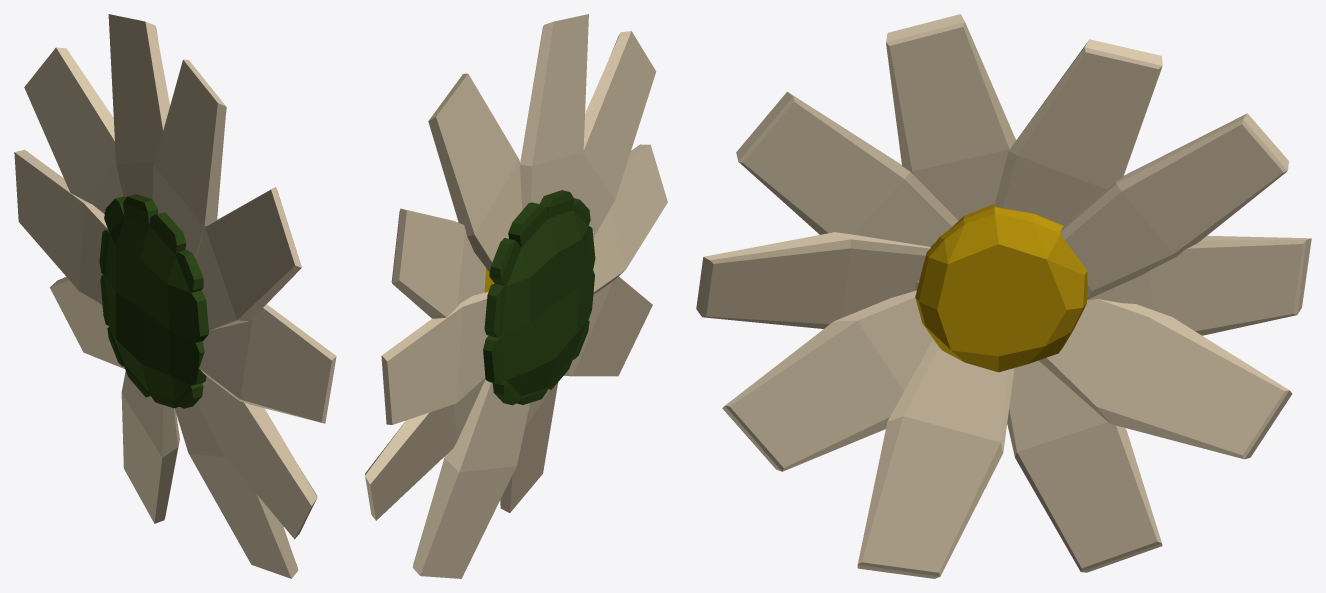
File: Daisy_Crown.fbx
3 renders of one model, left to right at view 1: azimuth 30°, elevation 25°; view 2: azimuth 150°, elevation 25°; view 3: azimuth 270°, elevation 25°, orthographic. The views are drawn at different scales.
Visible parts, largest first — view 1: Back, Pedals.002, Pedals.001, Pedals, Pedals.006, Pedals.009, Pedals.003, Pedals.007, Pedals.004, Pedals.008, Pedals.005; view 2: Back, Pedals.008, Pedals.009, Pedals, Pedals.007, Pedals.001, Pedals.006, Pedals.005, Pedals.002, Pedals.003, Pedals.004; view 3: Pedals.004, Pedals.005, Front, Pedals.003, Pedals.006, Pedals.008, Pedals.009, Pedals, Pedals.001, Pedals.002, Pedals.007.
Boxes of the visible parts, x1,y1,x2,y2 form: Back: [99, 194, 208, 408]; Pedals.002: [199, 304, 336, 423]; Pedals.001: [196, 187, 301, 330]; Pedals: [152, 59, 226, 258]; Pedals.006: [24, 47, 123, 213]; Pedals.009: [108, 14, 169, 199]; Pedals.003: [197, 376, 317, 539]; Pedals.007: [14, 149, 107, 304]; Pedals.004: [174, 402, 298, 578]; Pedals.008: [121, 371, 179, 523]; Pedals.005: [50, 276, 124, 368]; Back: [483, 190, 595, 405]; Pedals.008: [412, 379, 529, 578]; Pedals.009: [428, 73, 522, 272]; Pedals: [520, 14, 588, 209]; Pedals.007: [381, 291, 488, 424]; Pedals.001: [573, 31, 656, 238]; Pedals.006: [391, 208, 485, 318]; Pedals.005: [365, 378, 485, 520]; Pedals.002: [593, 144, 667, 294]; Pedals.003: [564, 276, 652, 376]; Pedals.004: [500, 382, 558, 512]; Pedals.004: [857, 339, 1014, 578]; Pedals.005: [1039, 299, 1292, 459]; Front: [915, 204, 1087, 372]; Pedals.003: [722, 290, 933, 471]; Pedals.006: [1060, 113, 1288, 299]; Pedals.008: [1007, 360, 1162, 572]; Pedals.009: [994, 39, 1162, 226]; Pedals: [886, 14, 1015, 220]; Pedals.001: [736, 91, 958, 289]; Pedals.002: [696, 232, 930, 328]; Pedals.007: [1087, 235, 1311, 335].
Size of the model in its own units: 129 by 702 by 722.
